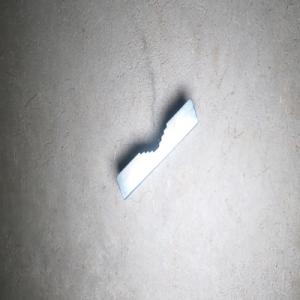ClampPart: (115, 97, 199, 202)
